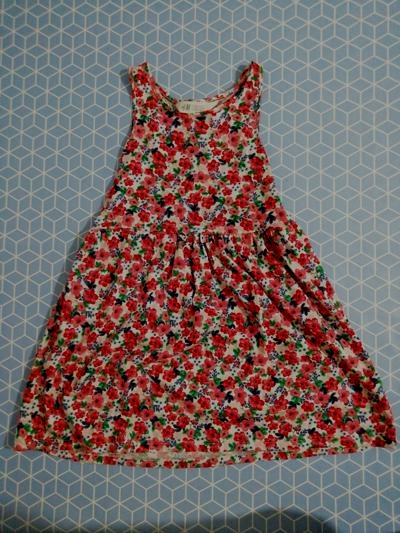Dress: (19, 65, 394, 481)
